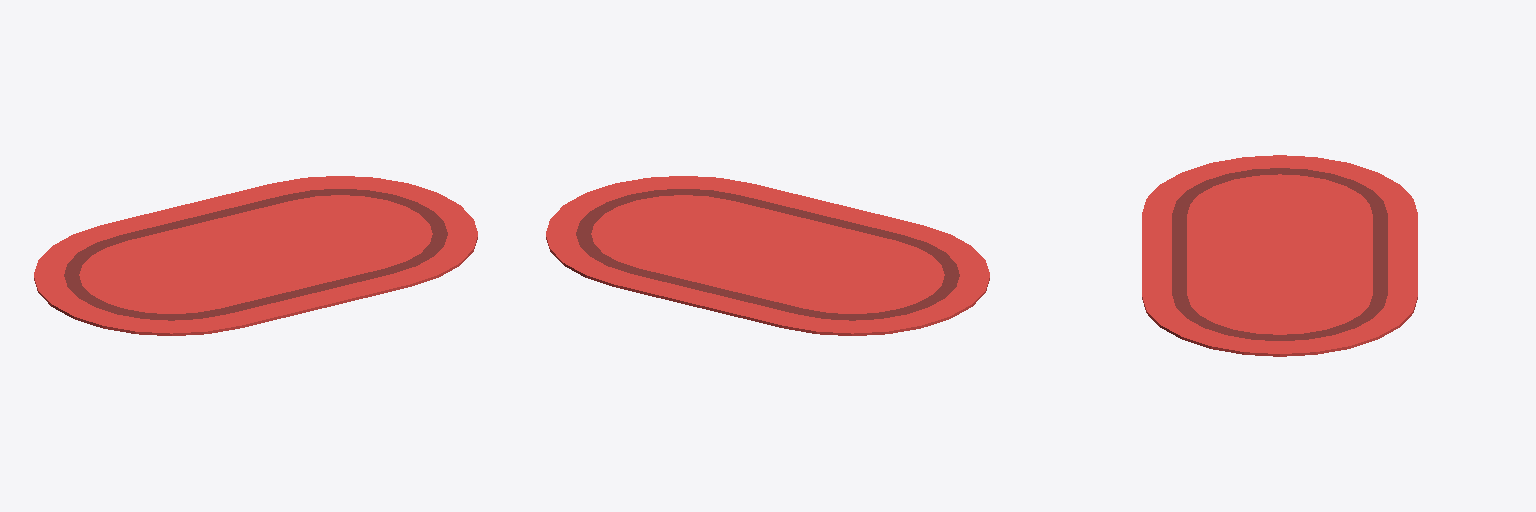
Rendered from rugRounded.obj.
The picture shows the model from 3 angles: view 1: azimuth 30°, elevation 25°; view 2: azimuth 150°, elevation 25°; view 3: azimuth 270°, elevation 25°; orthographic projection.
Parts seen in each view (by area): view 1: rugRounded; view 2: rugRounded; view 3: rugRounded.
Part boxes in pixels (bbox=[...]): rugRounded: bbox=[34, 176, 477, 335]; rugRounded: bbox=[546, 176, 989, 335]; rugRounded: bbox=[1142, 155, 1417, 356].
Bounding box in the file's own units: 1.57 × 0.01 × 0.92.